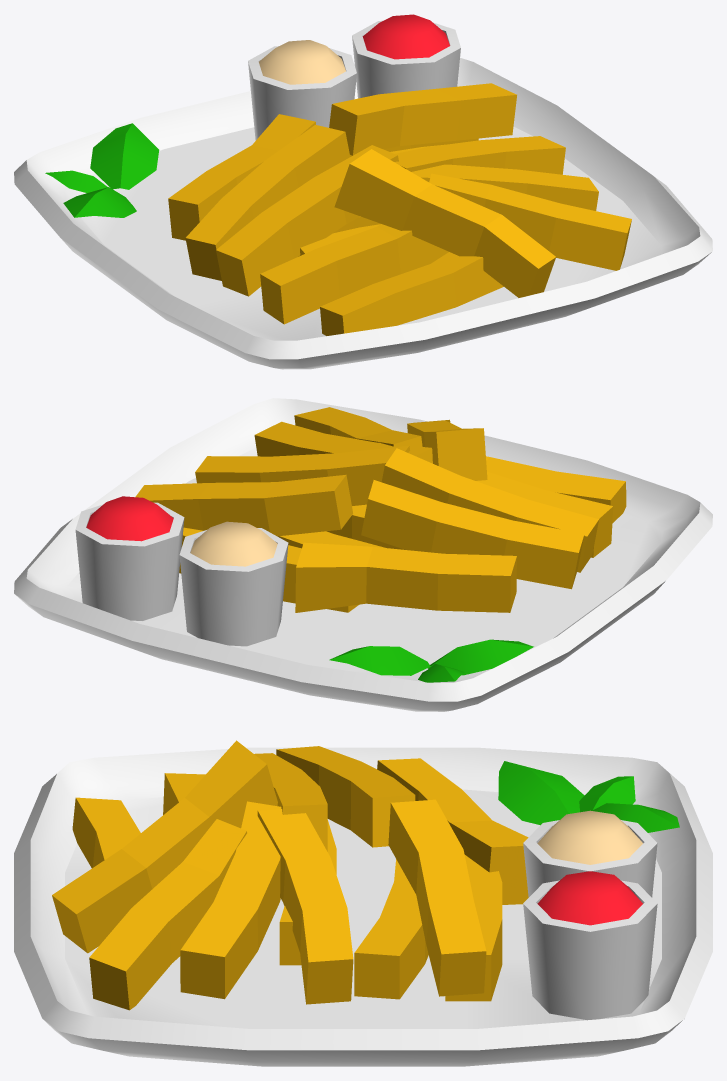
The model's file is French_Fry_01.fbx.
The picture shows the model from 3 angles, top to bottom: view 1: azimuth 30°, elevation 25°; view 2: azimuth 150°, elevation 25°; view 3: azimuth 270°, elevation 25°; orthographic projection. The views are drawn at different scales.
Visible parts, largest first — view 1: French_Fry_01, French_Fry_01_Sauce, French_Fry_01_Mayo; view 2: French_Fry_01, French_Fry_01_Sauce, French_Fry_01_Mayo; view 3: French_Fry_01, French_Fry_01_Mayo, French_Fry_01_Sauce.
Part boxes in pixels (x1,y1,x2,y2): French_Fry_01: (14,58,712,369); French_Fry_01_Sauce: (248,40,356,140); French_Fry_01_Mayo: (352,14,460,98); French_Fry_01: (14,398,712,711); French_Fry_01_Sauce: (179,521,288,646); French_Fry_01_Mayo: (75,496,184,620); French_Fry_01: (14,740,712,1066); French_Fry_01_Mayo: (523,871,657,1020); French_Fry_01_Sauce: (523,810,657,897).
Size of the model in its own units: 68.91 by 17.22 by 68.91.
